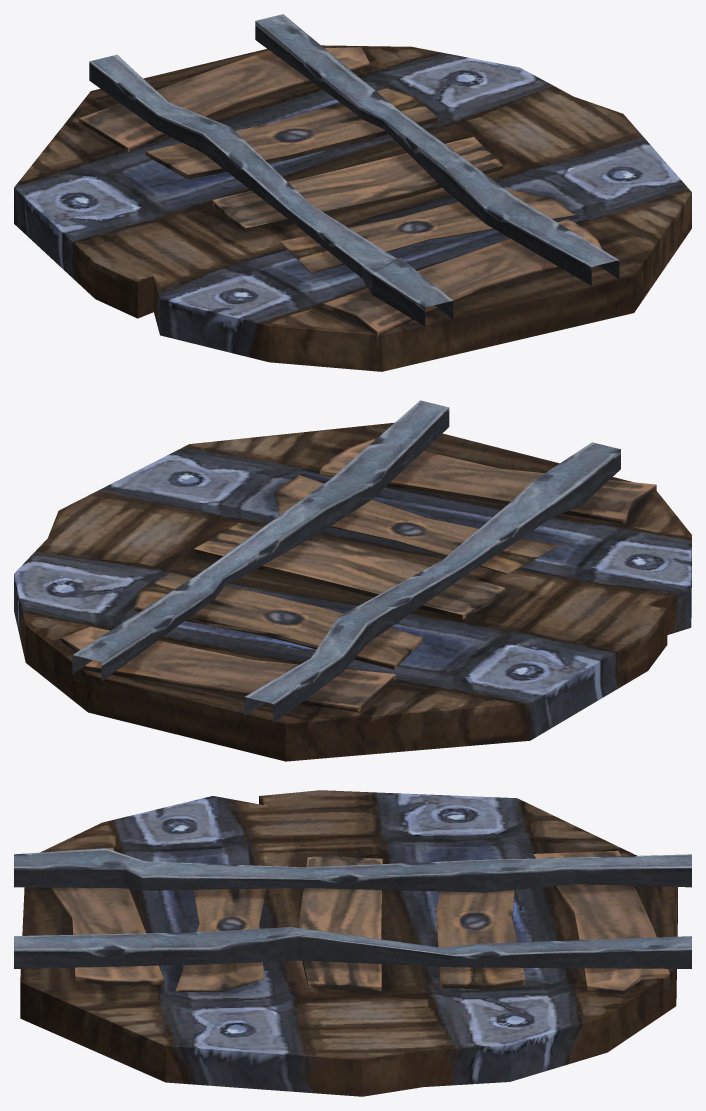
The model's file is mine_track_switcher.fbx.
The picture shows the model from 3 angles, top to bottom: view 1: azimuth 30°, elevation 25°; view 2: azimuth 150°, elevation 25°; view 3: azimuth 270°, elevation 25°; orthographic projection. The views are drawn at different scales.
Parts seen in each view (by area): view 1: obj1.006; view 2: obj1.006; view 3: obj1.006.
Boxes of the visible parts, x1,y1,x2,y2 form: obj1.006: (14,14,691,371); obj1.006: (14,400,691,761); obj1.006: (14,790,691,1096).
Bounding box in the file's own units: 3.77 × 0.4247 × 4.
